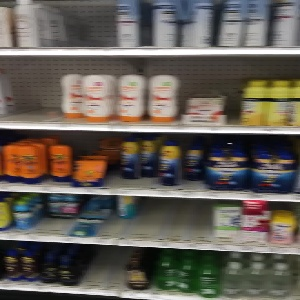void: (106, 200, 213, 241), (1, 52, 61, 121), (51, 1, 116, 47), (82, 244, 124, 296)
